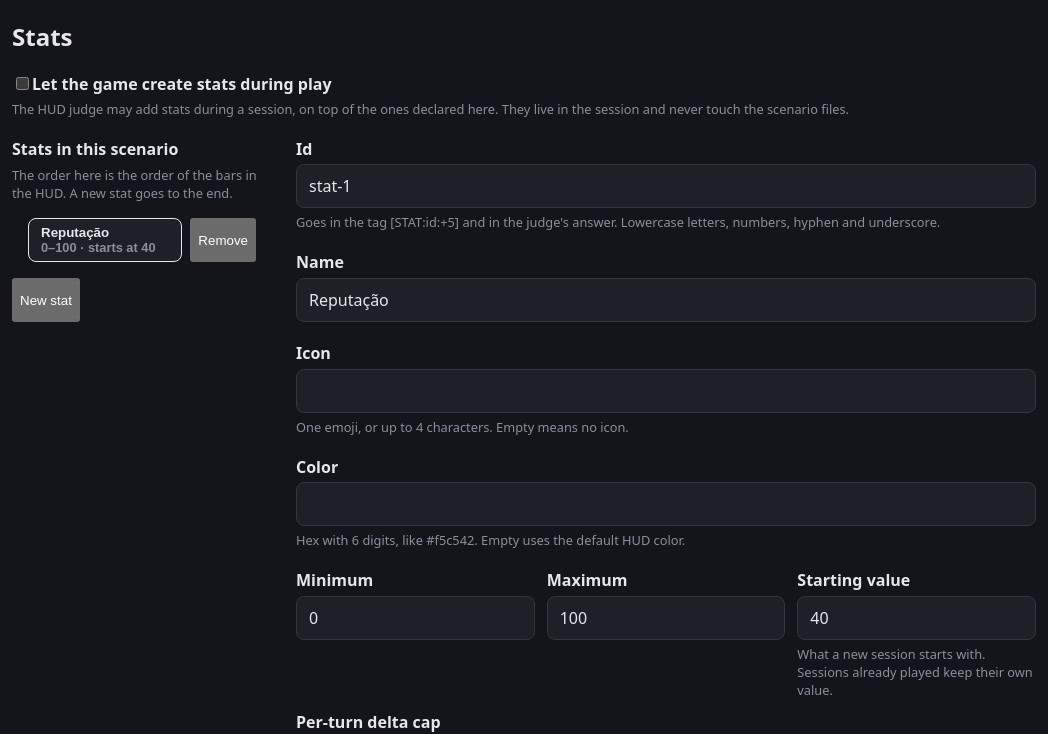
StatsTab › flags an invalid color without rewriting the field
The image size is (1048, 734).
Type "#zzz" into the field labelled "Color".
click(666, 504); type("#zzz")  # box [296,482,1036,526]
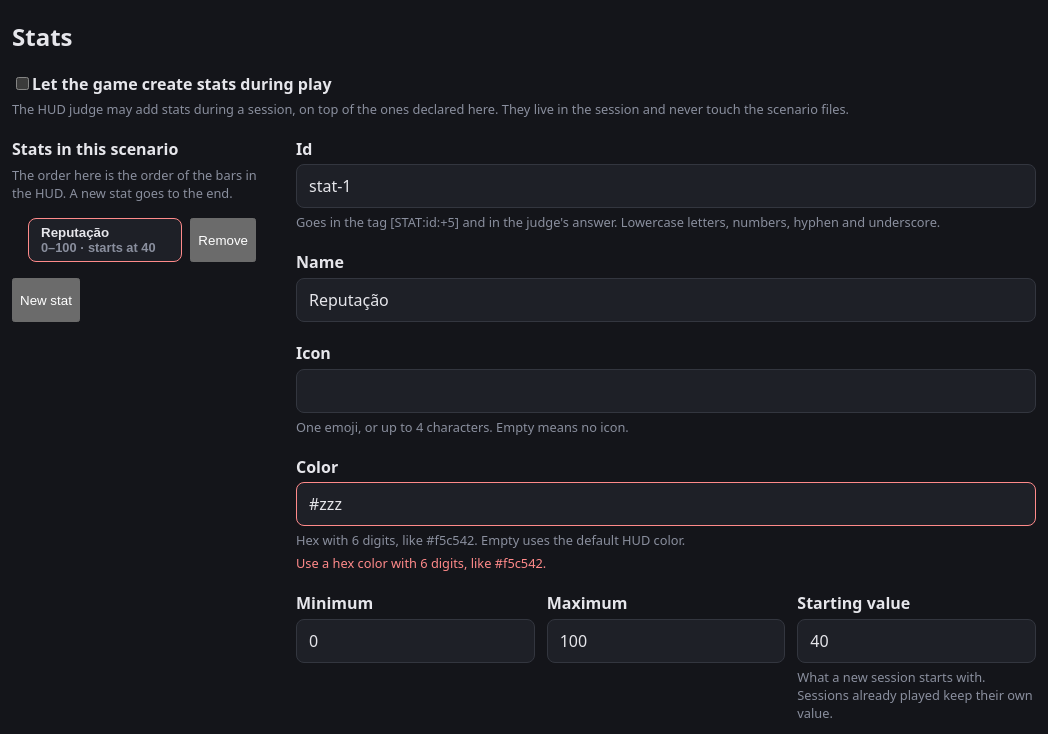
expect the text "Use a hex color with 6 digits, like #f5c542." is shown: met, box [296,554,546,572]
